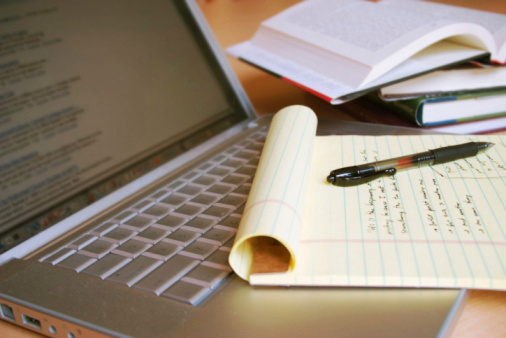Open Book: (221, 2, 506, 104)
